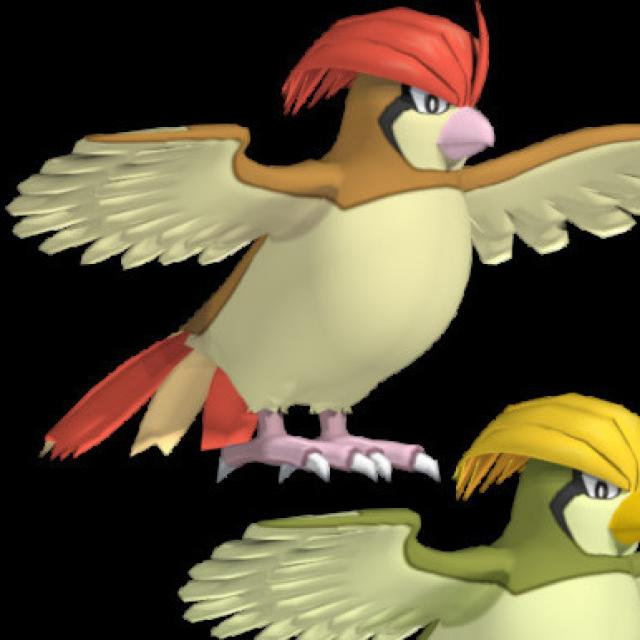Pidgeotto: (89, 14, 503, 463)
